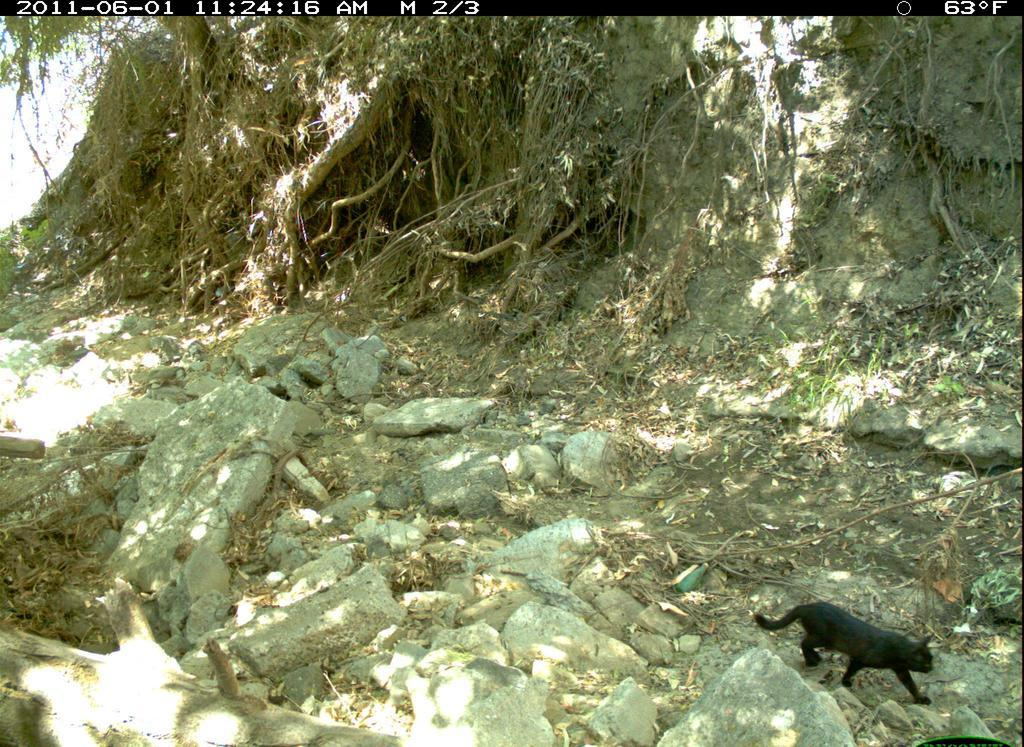cat: (749, 592, 943, 713)
